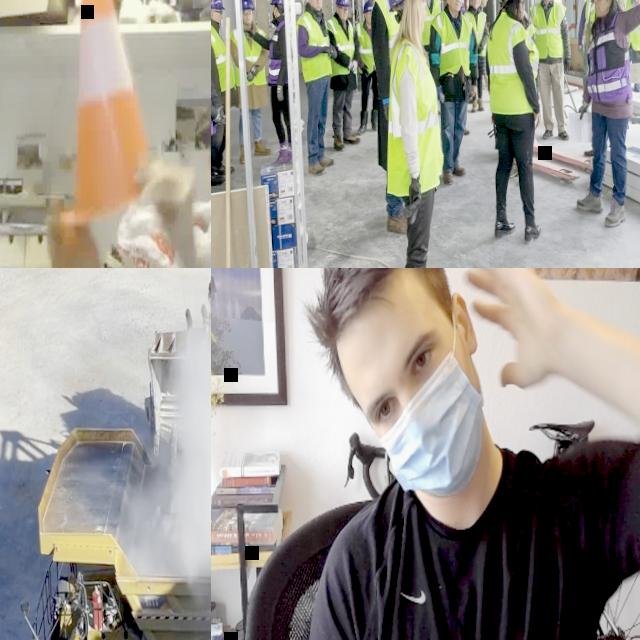Hardhat: (387, 0, 429, 12), (361, 0, 374, 14), (241, 0, 254, 10), (211, 0, 224, 9), (334, 0, 350, 7), (268, 0, 283, 5), (460, 0, 464, 6), (348, 0, 356, 2)
Mask: (372, 296, 484, 496), (272, 6, 277, 19)
NO-Hardhat: (313, 268, 444, 346)
NO-Mask: (594, 4, 608, 16), (450, 1, 461, 11), (310, 1, 322, 10), (213, 15, 222, 26), (242, 15, 252, 24), (338, 12, 348, 20), (518, 6, 524, 19), (422, 14, 426, 32), (365, 16, 371, 24), (472, 1, 479, 7), (482, 0, 486, 7)
NO-Safety Vest: (340, 472, 583, 640)
Person: (273, 268, 631, 640), (45, 74, 211, 268), (383, 0, 447, 268), (573, 0, 640, 227), (483, 0, 543, 245), (368, 0, 416, 233), (426, 0, 479, 186), (245, 0, 292, 169), (295, 0, 338, 174), (229, 0, 270, 165), (529, 0, 572, 140), (326, 0, 361, 151), (211, 0, 234, 185), (353, 0, 378, 135), (211, 0, 228, 196), (462, 0, 489, 113), (580, 0, 627, 51), (575, 0, 601, 91), (473, 0, 491, 101), (621, 0, 640, 92), (419, 0, 444, 60), (347, 0, 358, 23)
Safety Cone: (51, 0, 160, 244)
Safety Vest: (384, 36, 444, 194), (486, 11, 540, 114), (584, 8, 633, 102), (430, 8, 474, 75), (296, 12, 332, 84), (229, 25, 267, 85), (528, 0, 567, 58), (372, 0, 403, 69), (326, 15, 356, 77), (211, 19, 235, 91), (590, 0, 626, 40), (266, 18, 286, 86), (353, 21, 375, 74), (463, 9, 487, 56), (420, 0, 442, 44), (622, 0, 640, 48), (580, 0, 593, 53), (482, 10, 488, 46), (350, 5, 360, 24), (526, 22, 536, 37)
vehicle: (12, 410, 211, 640), (136, 268, 211, 470)
